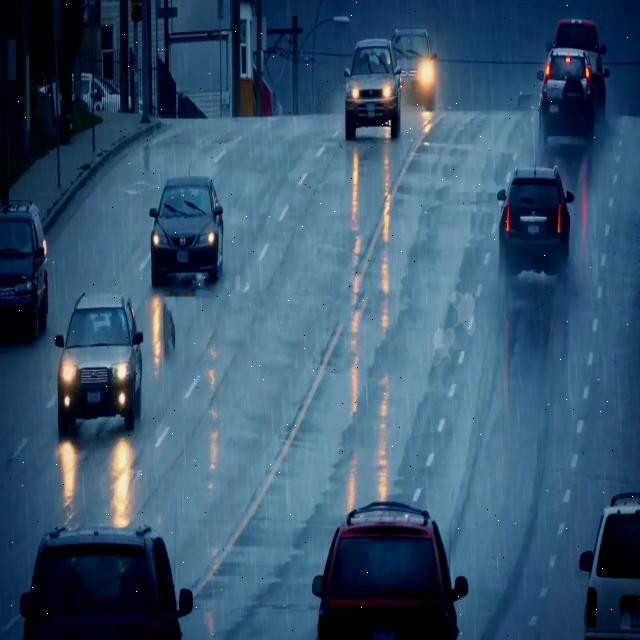Car: (304, 498, 462, 639), (19, 521, 191, 639), (54, 289, 144, 436), (496, 162, 574, 281), (579, 492, 640, 640), (149, 176, 223, 288), (535, 44, 602, 152), (0, 198, 48, 338), (343, 39, 403, 141), (390, 29, 438, 111), (72, 72, 125, 115)
